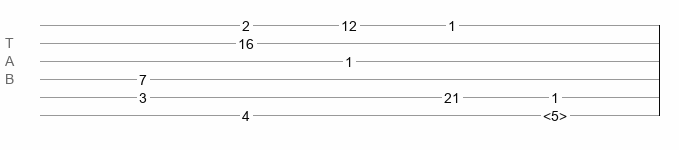1: (345, 54, 353, 64), (448, 18, 456, 28), (551, 90, 559, 100)
12: (341, 18, 357, 28)
16: (238, 36, 254, 46)
2: (242, 18, 250, 28)
21: (444, 90, 460, 100)
3: (139, 90, 147, 100)
4: (242, 108, 250, 118)
7: (139, 72, 147, 82)
harmonic: (543, 108, 567, 118)
